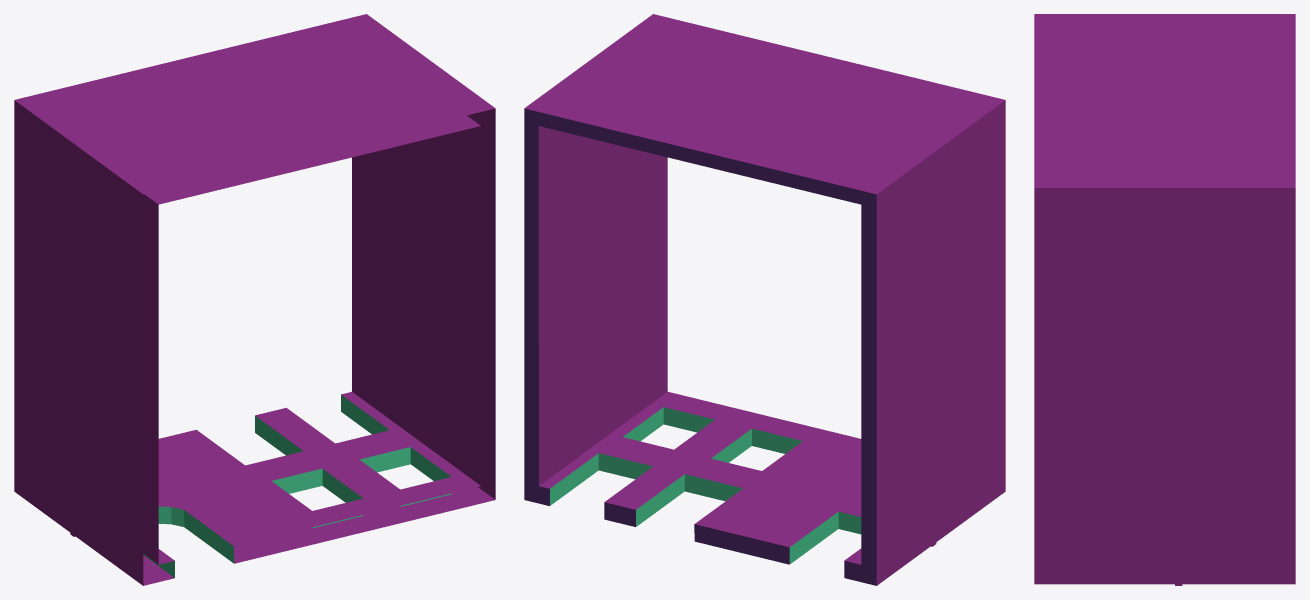
The model's file is Dom Esterki Tier 2.fbx.
The picture shows the model from 3 angles, left to right: view 1: azimuth 30°, elevation 25°; view 2: azimuth 150°, elevation 25°; view 3: azimuth 270°, elevation 25°; orthographic projection.
Parts seen in each view (by area): view 1: Cube_Cube_001; view 2: Cube_Cube_001; view 3: Cube_Cube_001.
Part boxes in pixels (x1=…): Cube_Cube_001: x1=14, y1=14, x2=495, y2=585; Cube_Cube_001: x1=524, y1=14, x2=1005, y2=585; Cube_Cube_001: x1=1034, y1=14, x2=1295, y2=585.
Size of the model in its own units: 610 by 651 by 387.
